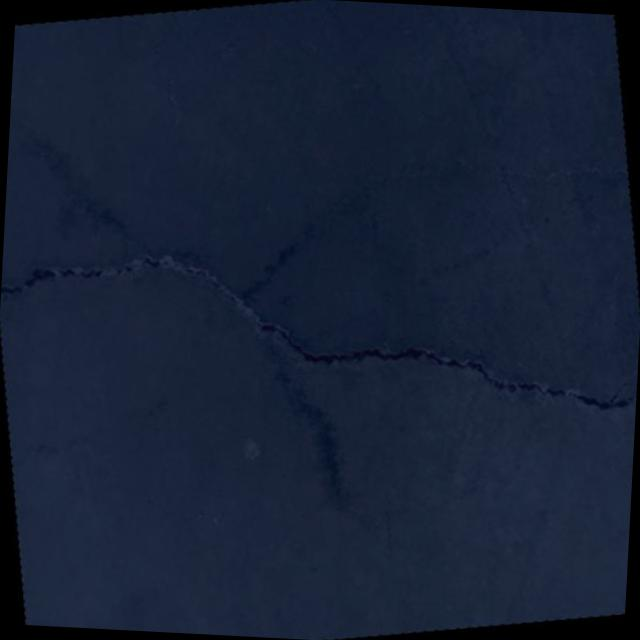crack: (0, 180, 640, 495)
